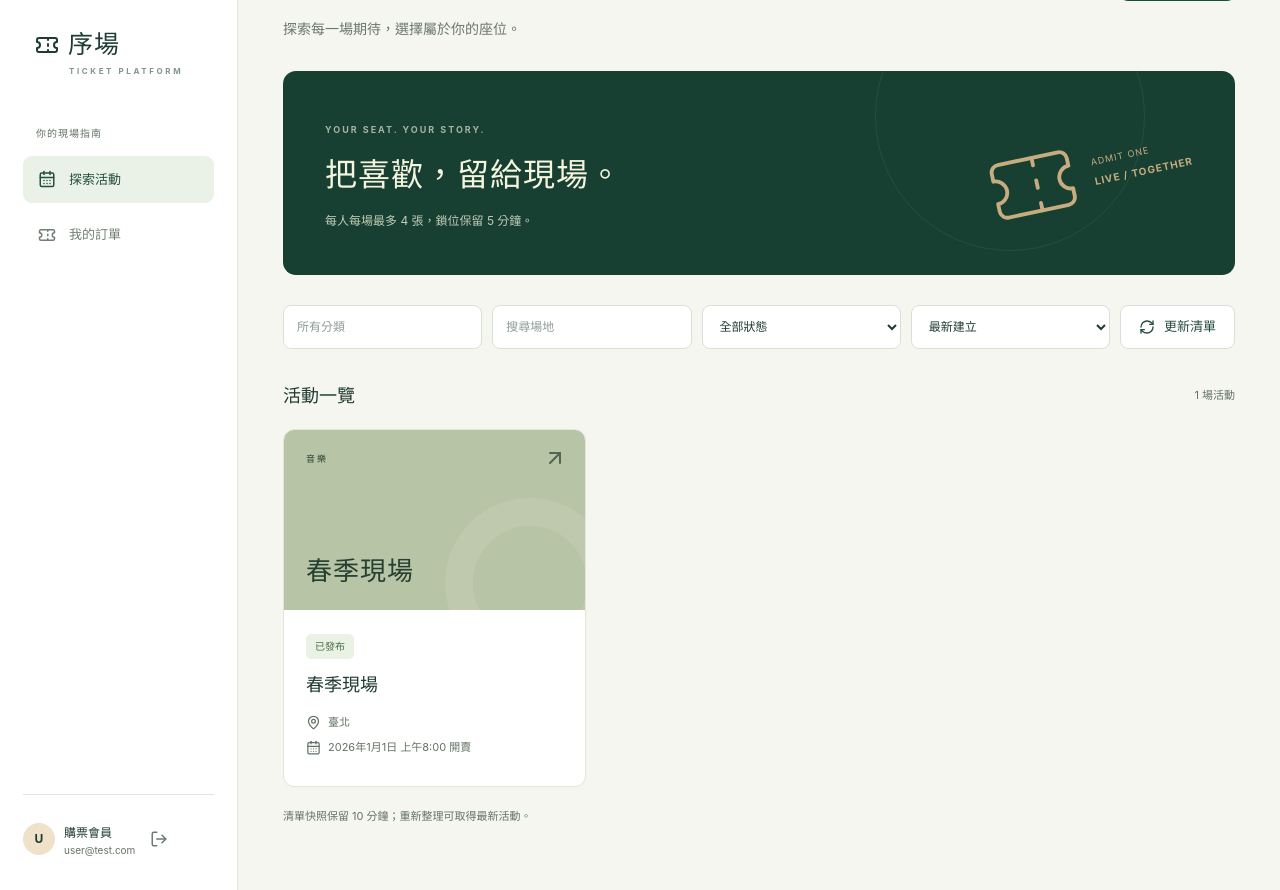
Test case: 即時座位推送 › 收到批次重新同步訊號時重新取得座位快照並恢復同步
(page scrolled)
Click the button "春季現場": (434, 608) x1=283 y1=429 x2=586 y2=787
(page scrolled)
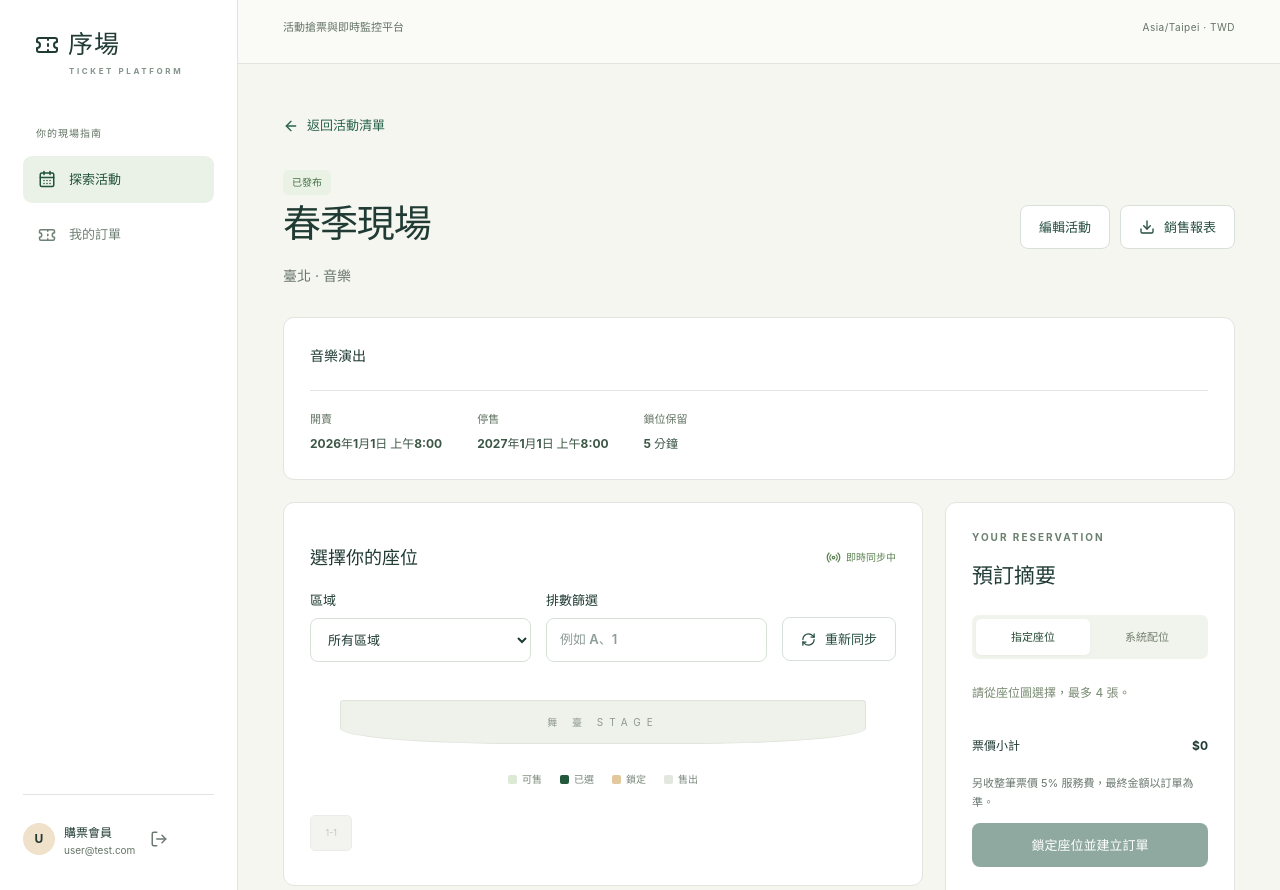
Check: the text "即時同步中" is shown, box x1=826 y1=550 x2=896 y2=565
Check: the button named "1 排 1 號，售出" is disabled, box x1=310 y1=815 x2=352 y2=851
